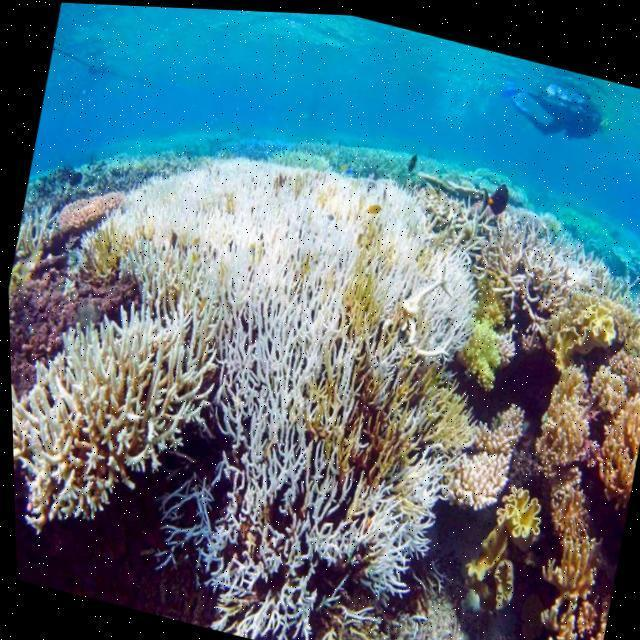Bleached Coral: (2, 103, 502, 640)
Healthy Coral: (507, 287, 640, 640)
